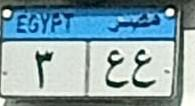3: (33, 47, 60, 95)
ع: (130, 42, 155, 89), (105, 42, 127, 93)
